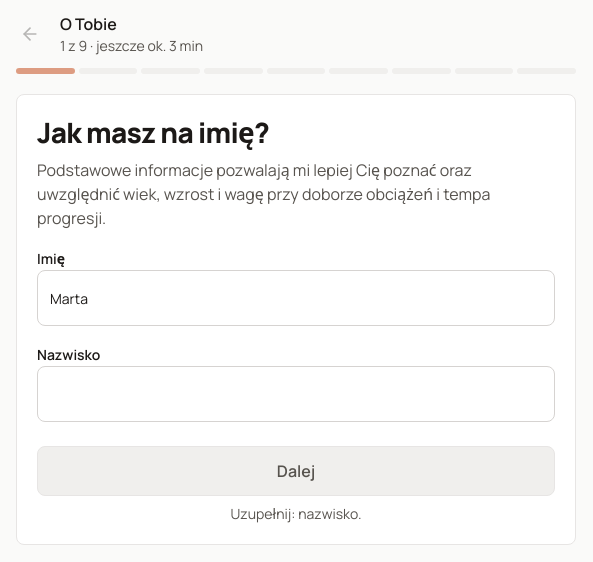
Test: steps › shows one question, stage 'X z N', progressbar, 'Dalej' disabled until a valid answer
Expected: the text with test id "stage-name" reads "O Tobie", top-left (60, 13), bottom-right (117, 35)
Expected: the text with test id "stage-count" shows "1 z 9", top-left (60, 36), bottom-right (87, 55)
Type "Test" into the field labelled "Nazwisko". click: (296, 394)
box: top-left (37, 366), bottom-right (555, 422)
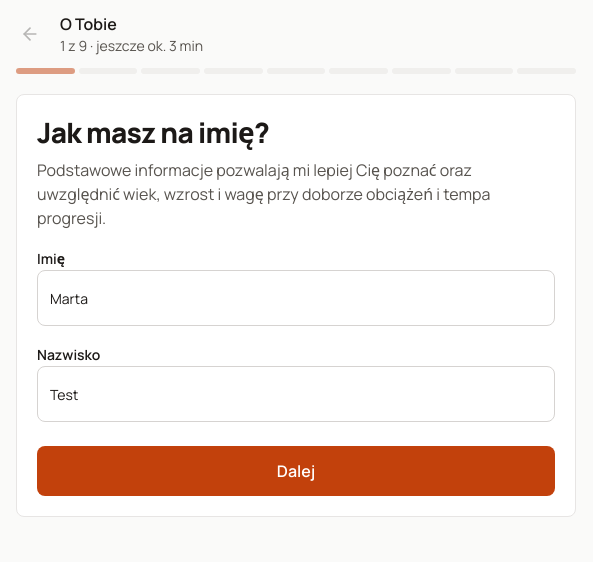
Expected: the field labelled "Imię" holds "Marta", top-left (37, 270), bottom-right (555, 326)
Expected: the button with test id "next" is enabled, top-left (37, 446), bottom-right (555, 496)
